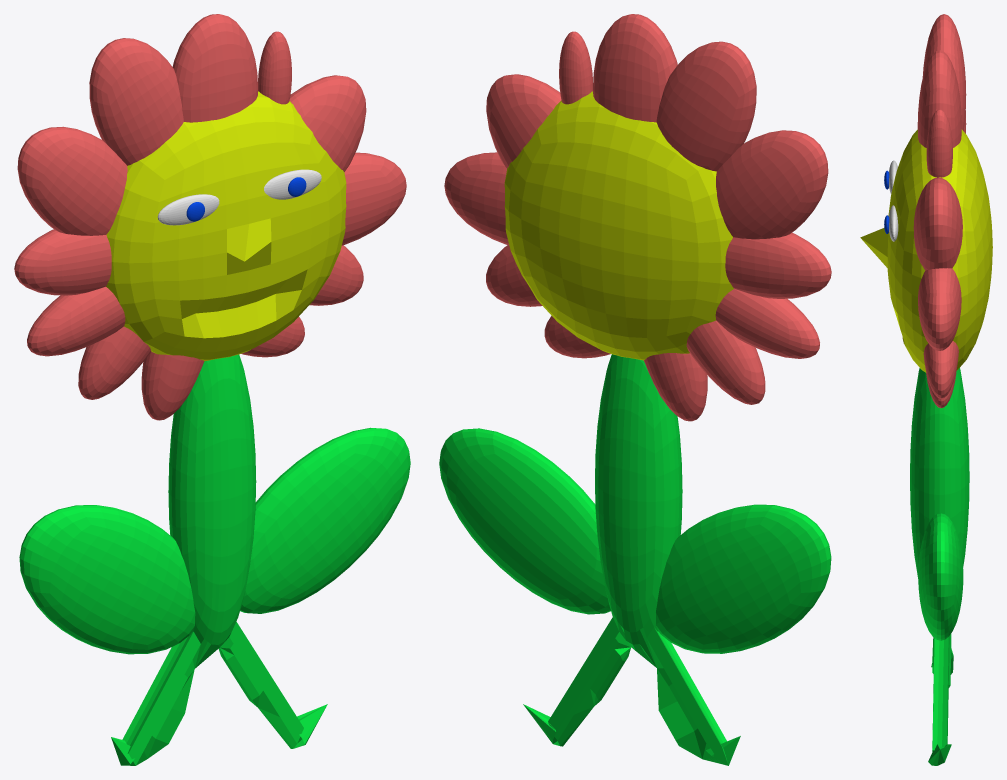
File: avatar.glb
3 views of the same model, side by side, from view 1: azimuth 30°, elevation 25°; view 2: azimuth 150°, elevation 25°; view 3: azimuth 270°, elevation 25° (orthographic). The views are drawn at different scales.
Visible parts, largest first — view 1: Roundcube.003, Roundcube.001, Roundcube.002, Roundcube.005, Roundcube.013, Roundcube.006, Roundcube.004, Roundcube.007, Roundcube.012, Roundcube.009, Roundcube.008, Roundcube.014 (+4 smaller); view 2: Roundcube.003, Roundcube.001, Roundcube.002, Roundcube.005, Roundcube.013, Roundcube.006, Roundcube.007, Roundcube.004, Roundcube.012, Roundcube.009, Roundcube.008, Roundcube.014 (+2 smaller); view 3: Roundcube.003, Roundcube.001, Roundcube.004, Roundcube.012, Roundcube.013, Roundcube.005, Roundcube.014, Roundcube.011, Roundcube.015, Roundcube.010, Roundcube.018.
Boxes of the visible parts, left/top/right/bottom form: Roundcube.003: left=19, top=354, right=410, bottom=765; Roundcube.001: left=106, top=91, right=346, bottom=361; Roundcube.002: left=17, top=126, right=127, bottom=235; Roundcube.005: left=89, top=38, right=183, bottom=165; Roundcube.013: left=172, top=14, right=257, bottom=122; Roundcube.006: left=14, top=229, right=111, bottom=295; Roundcube.004: left=289, top=75, right=366, bottom=171; Roundcube.007: left=27, top=286, right=125, bottom=356; Roundcube.012: left=342, top=152, right=406, bottom=245; Roundcube.009: left=78, top=326, right=151, bottom=399; Roundcube.008: left=141, top=352, right=204, bottom=420; Roundcube.014: left=258, top=31, right=291, bottom=104; Roundcube.003: left=439, top=354, right=831, bottom=765; Roundcube.001: left=504, top=91, right=733, bottom=360; Roundcube.002: left=716, top=130, right=828, bottom=239; Roundcube.005: left=656, top=41, right=756, bottom=171; Roundcube.013: left=593, top=14, right=677, bottom=122; Roundcube.006: left=725, top=232, right=831, bottom=298; Roundcube.007: left=715, top=288, right=819, bottom=358; Roundcube.004: left=486, top=74, right=561, bottom=168; Roundcube.012: left=444, top=152, right=509, bottom=245; Roundcube.009: left=686, top=320, right=765, bottom=404; Roundcube.008: left=644, top=353, right=707, bottom=421; Roundcube.014: left=559, top=31, right=592, bottom=104; Roundcube.003: left=910, top=368, right=969, bottom=765; Roundcube.001: left=860, top=129, right=992, bottom=372; Roundcube.004: left=913, top=177, right=962, bottom=270; Roundcube.012: left=918, top=268, right=961, bottom=350; Roundcube.013: left=917, top=50, right=961, bottom=147; Roundcube.005: left=922, top=14, right=966, bottom=130; Roundcube.014: left=926, top=109, right=952, bottom=177; Roundcube.011: left=923, top=341, right=958, bottom=398; Roundcube.015: left=884, top=205, right=898, bottom=241; Roundcube.010: left=926, top=372, right=956, bottom=408; Roundcube.018: left=884, top=160, right=897, bottom=194.
Size of the model in its own units: 2.65 by 4.85 by 0.8617.
